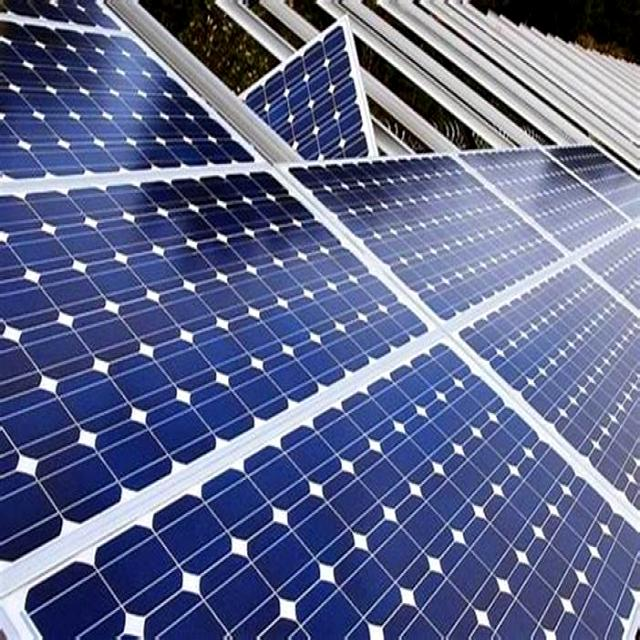crack: (18, 339, 640, 640), (0, 167, 428, 581), (419, 253, 640, 534), (291, 150, 564, 346)
